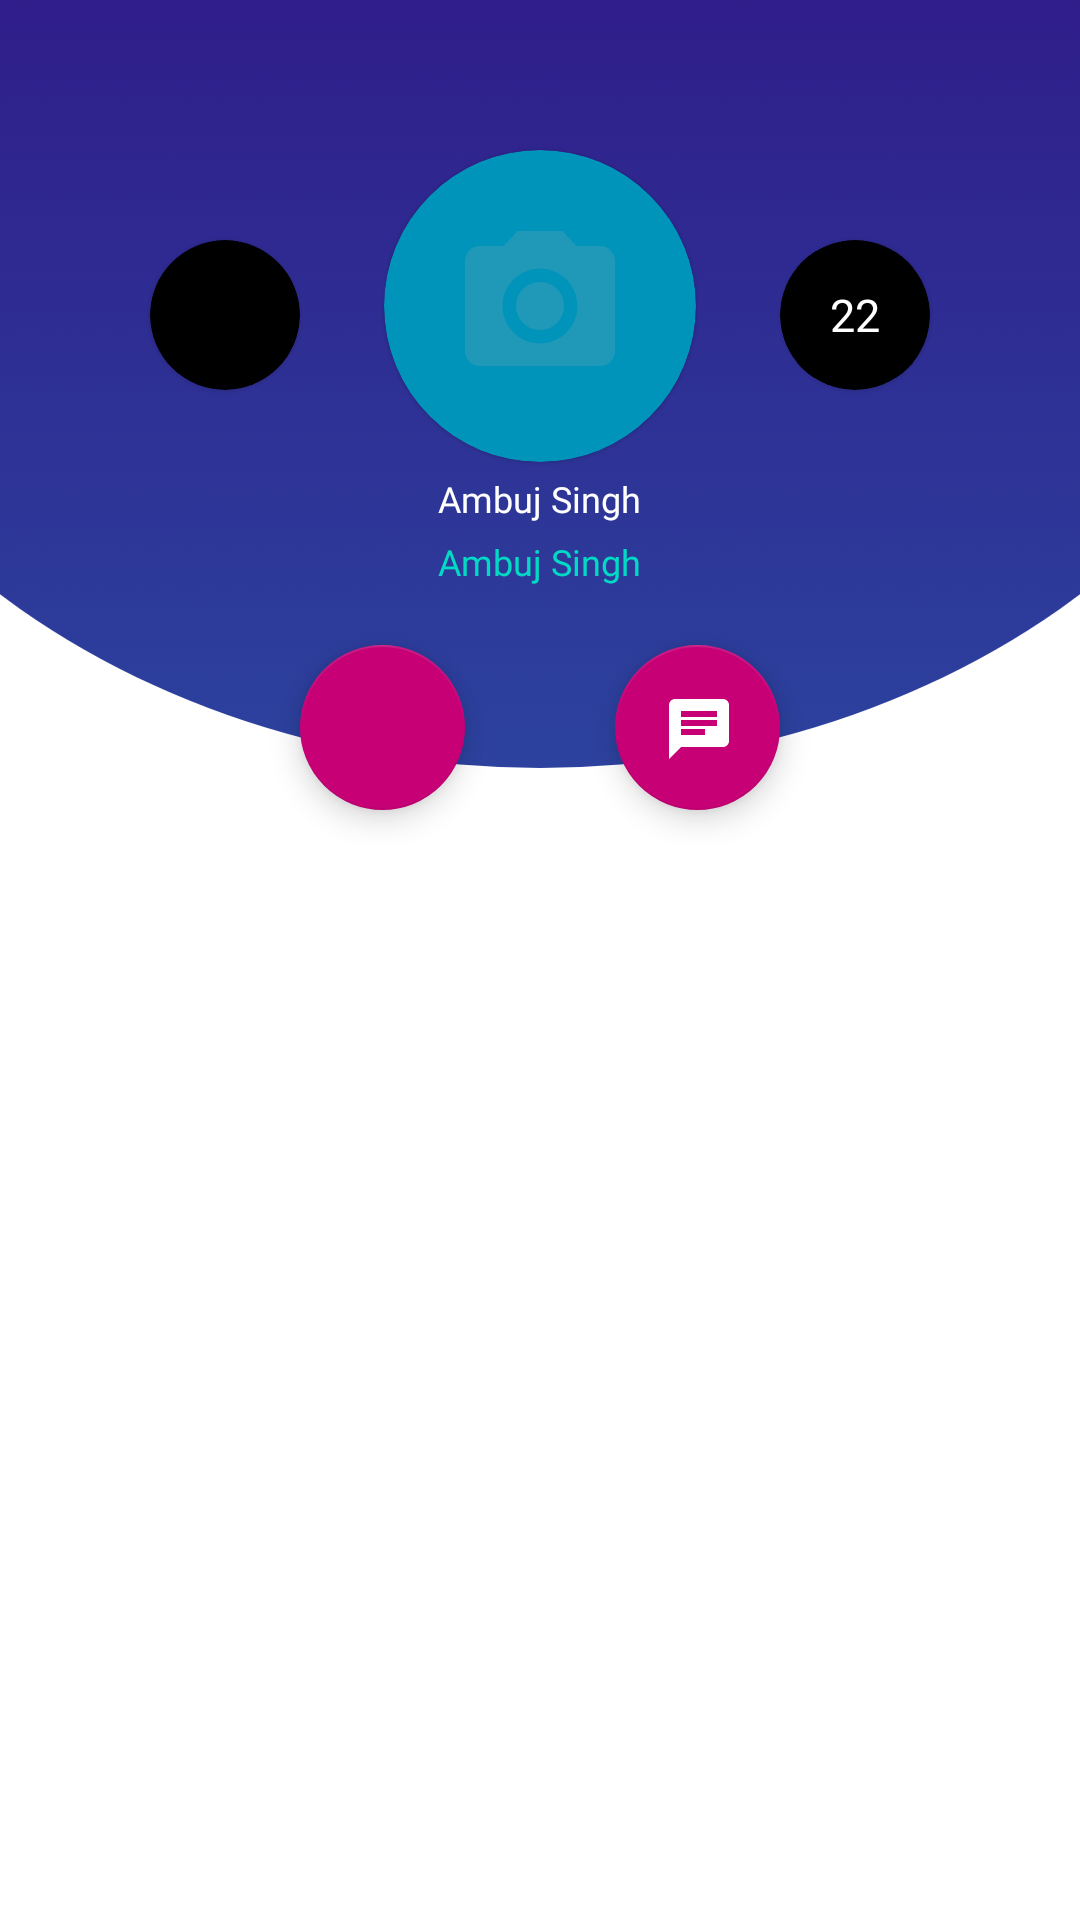

Icon click points for this 1080px x 1920px phone screenshot, format point (x, y):
camera: point (540, 306)
chat: point (697, 727)
